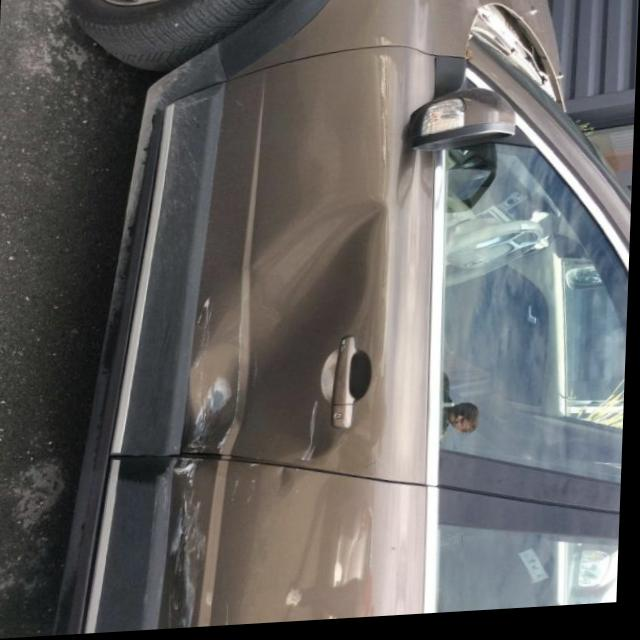porte-avant: (106, 36, 638, 548)
